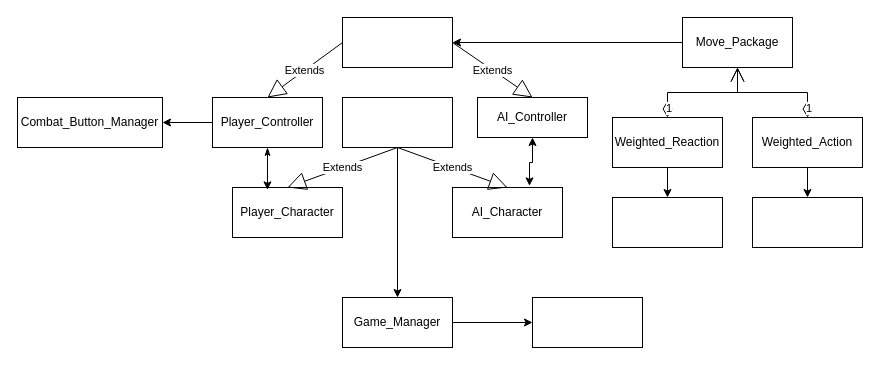
The diagram is 880 pixels wide and 365 high, and some of its shapes have lost their labels. The centre of each missing label's shape, as x and y in pixels:
"Abstract_Character" belongs at (397,122).
"Abstract_Controller" belongs at (397,42).
"Action" belongs at (807,222).
"Move_Manager" belongs at (587,322).
"Reaction" belongs at (667,222).
